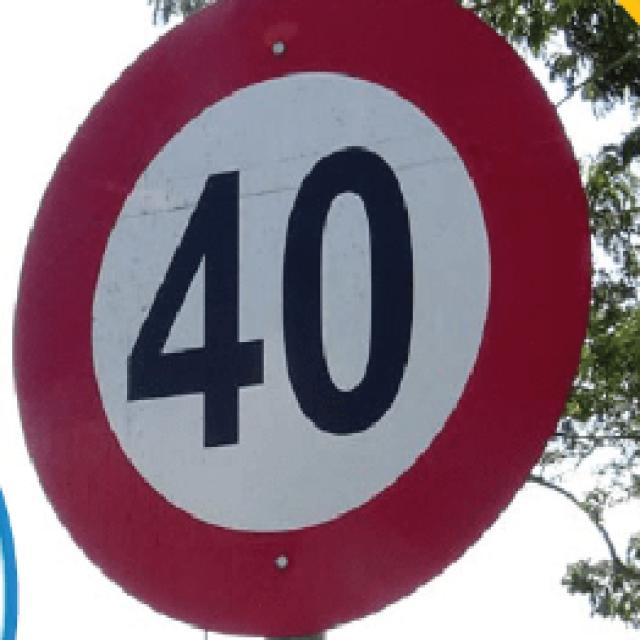Bien bao toc do toi da cho phep: (1, 0, 628, 640)
